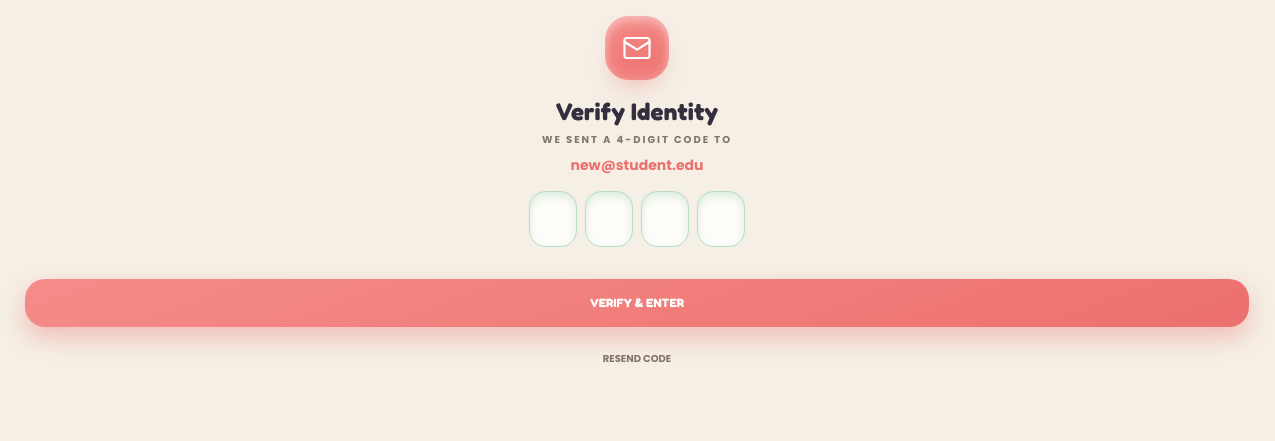
Test: a wrong code stays on the page and starts no set-up
Type "9" into the 1st field at x=553, y=219, box [529,191,577,247]
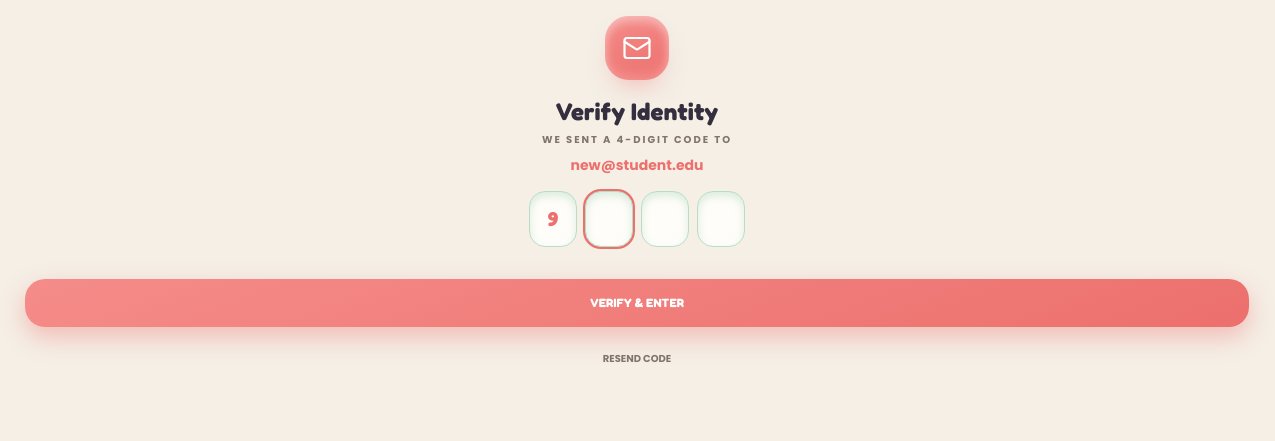
Type "9" into the 2nd field at x=609, y=219, box [585,191,633,247]
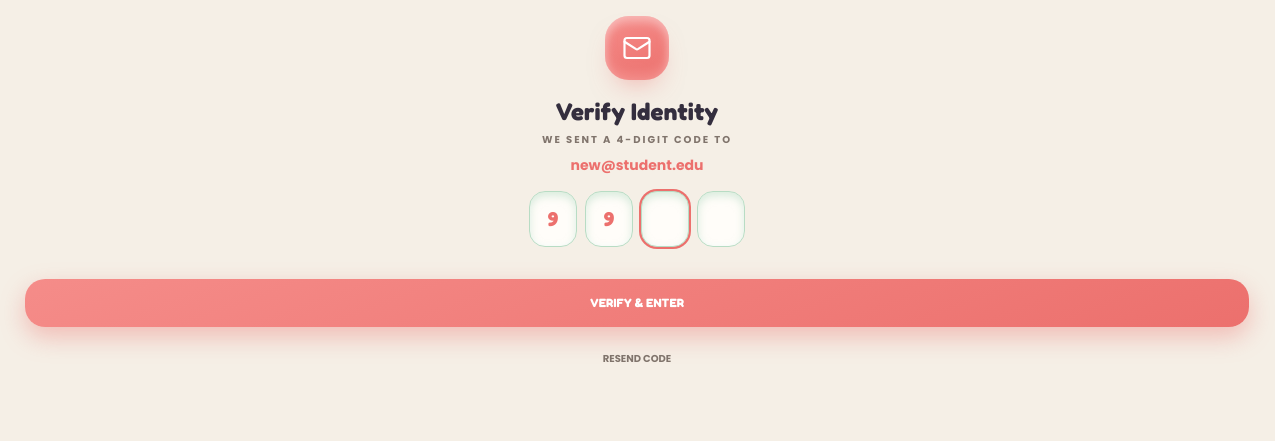
Type "9" into the 3rd field at x=665, y=219, box [641,191,689,247]
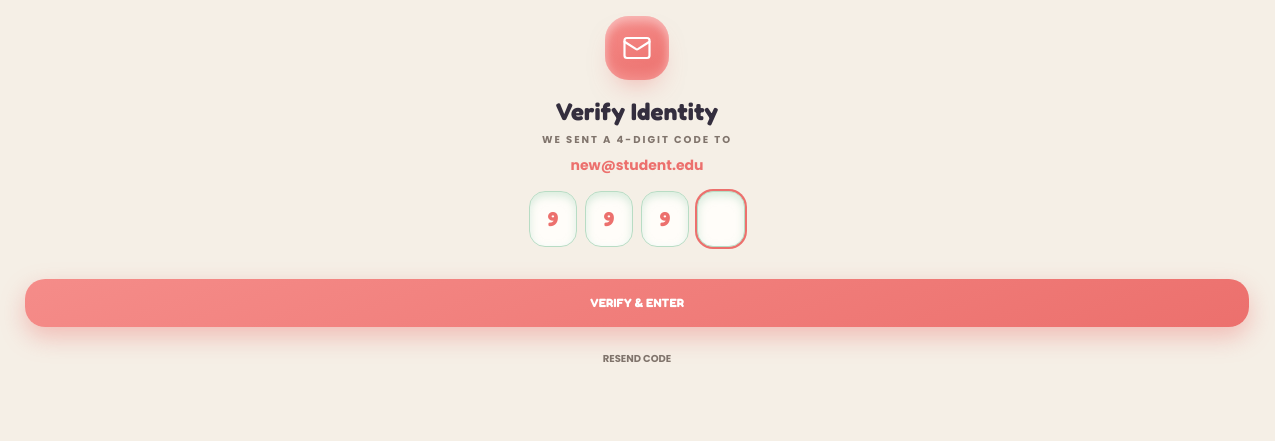
Type "9" into the 4th field at x=721, y=219, box [697,191,745,247]
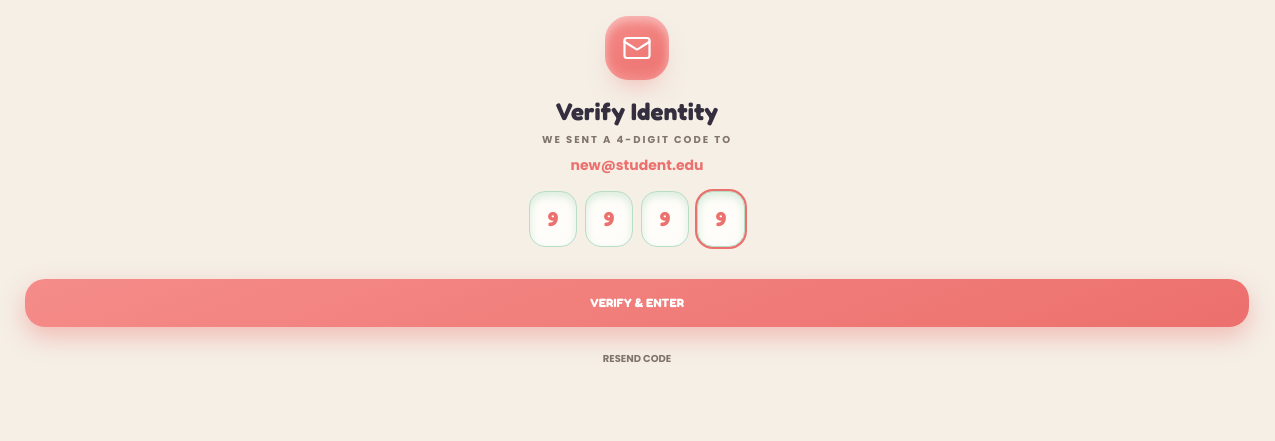
Click the button "VERIFY & ENTER" at x=637, y=303, box [25,279,1249,327]
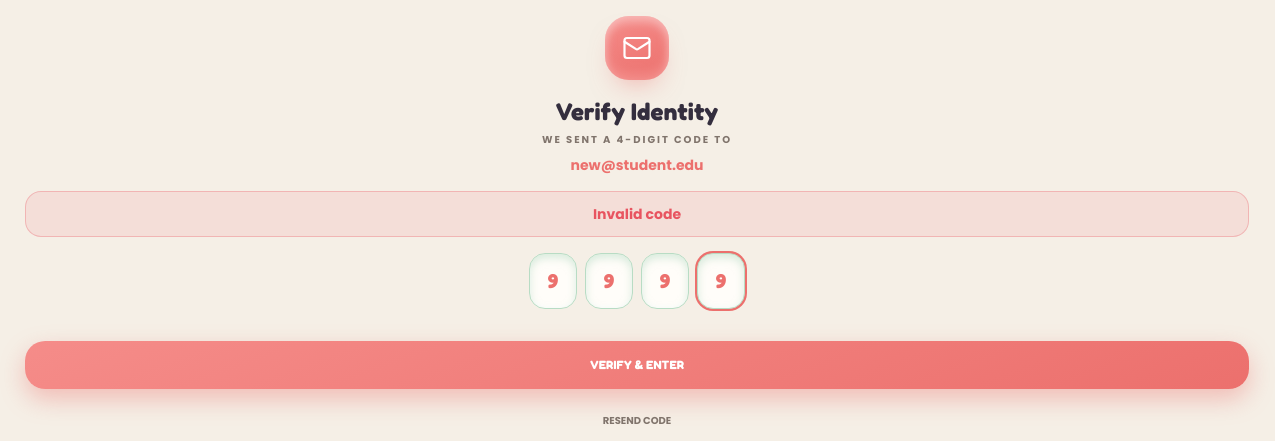
Check: the text "Invalid code" is shown, box [25,191,1249,237]
